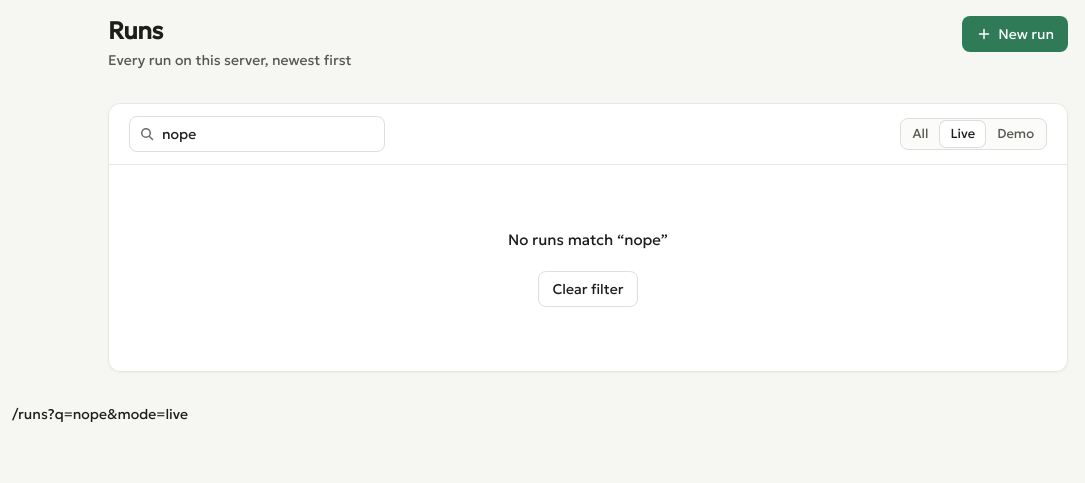
Test: RunsPage › says what matched nothing and clears the filter
Expected: the heading "No runs match “nope”" is shown, [508, 230, 668, 249]
Click the button "Clear filter".
click(588, 289)  # box [538, 271, 638, 307]
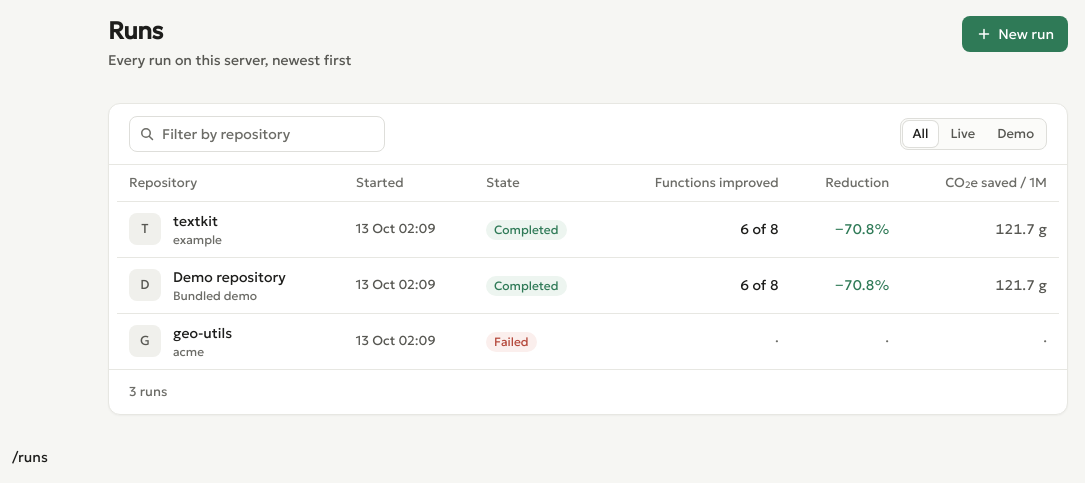
Now the text with test id "where" reads "/runs", box [12, 448, 48, 466]
